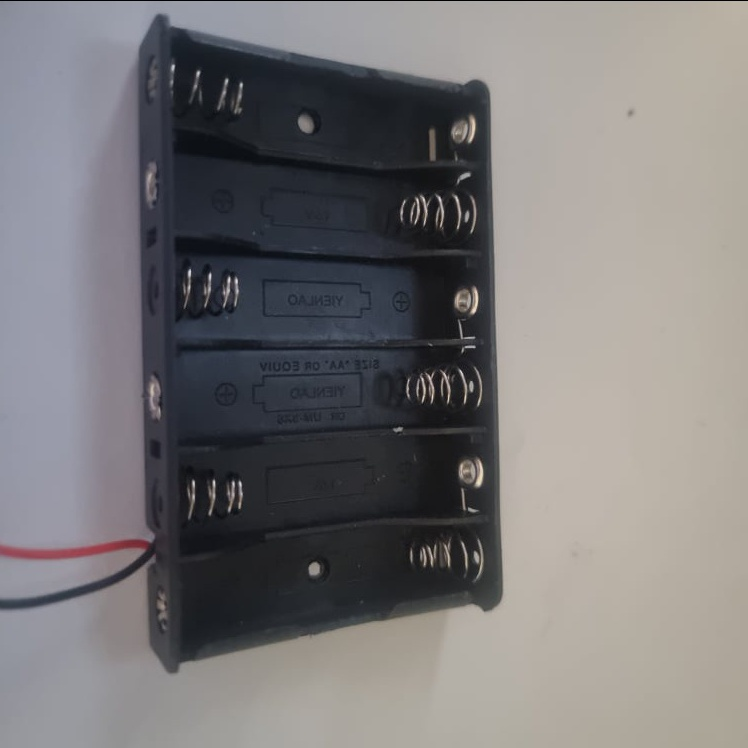BATTERY BOX: (133, 14, 503, 677)
